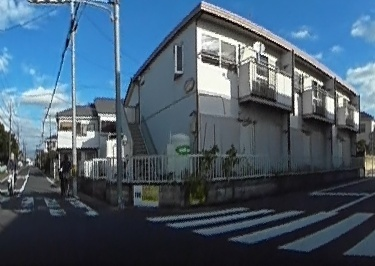person: (59, 151, 72, 196), (5, 150, 17, 180)
